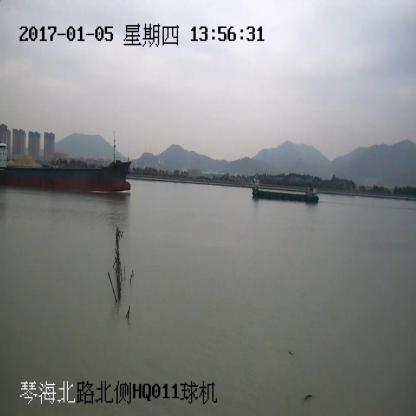Bulk Carrier: (0, 142, 132, 192), (252, 178, 319, 204)
